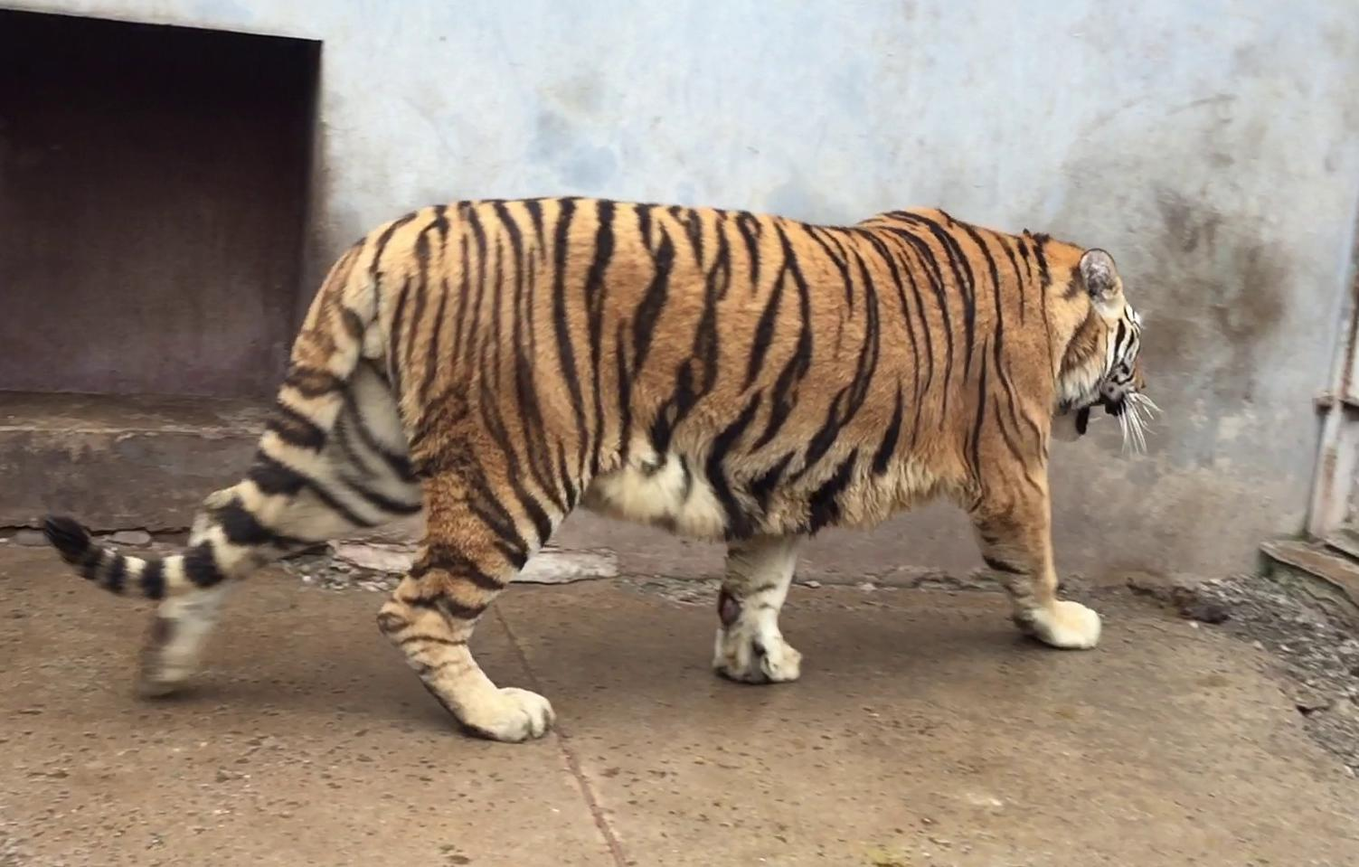tiger: (44, 197, 1156, 742)
